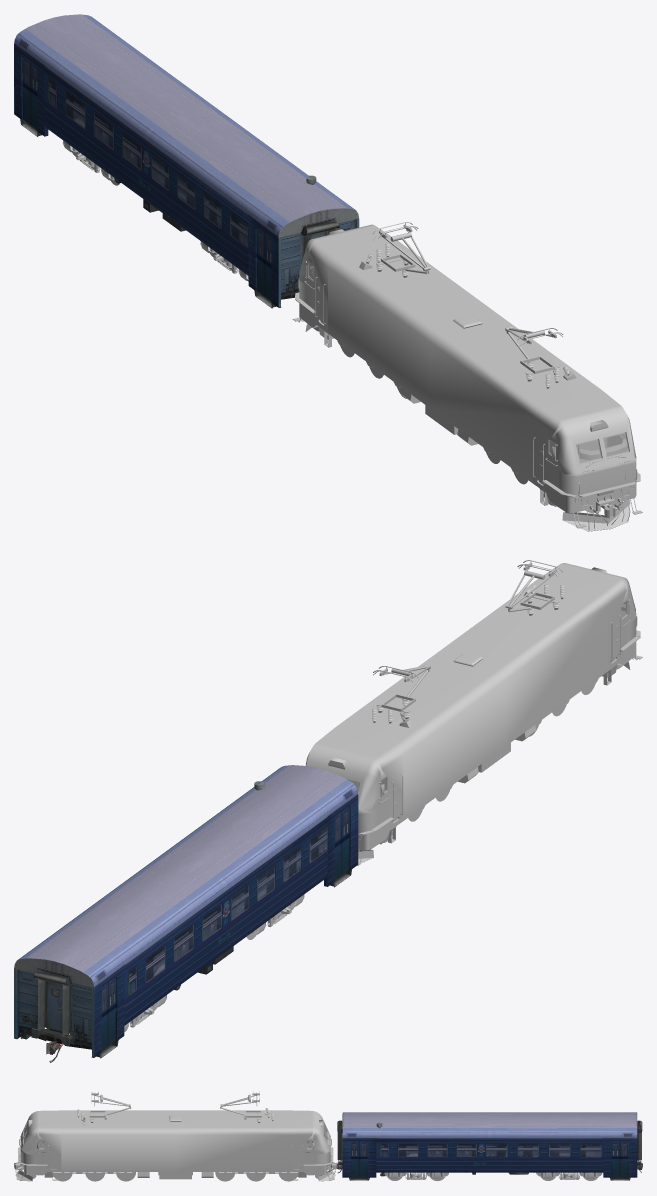
File: HDX3c.fbx
3 renders of one model, top to bottom at view 1: azimuth 30°, elevation 25°; view 2: azimuth 150°, elevation 25°; view 3: azimuth 270°, elevation 25°, orthographic. The views are drawn at different scales.
Parts seen in each view (by area): view 1: HDX3c_cheke, HDX3c_cheshen, HDX3c_dipan1, HDX3c_jiashishi, HDX3c_glass, HDX3c_cheshen2; view 2: HDX3c_cheshen, HDX3c_cheke, HDX3c_dipan1, HDX3c_cheshen2; view 3: HDX3c_cheke, HDX3c_cheshen, HDX3c_dipan1, HDX3c_cheshen2, HDX3c_jiashishi, HDX3c_glass.
Part boxes in pixels (<box>): HDX3c_cheke: <box>299,222,636,513</box>; HDX3c_cheshen: <box>14,14,359,308</box>; HDX3c_dipan1: <box>292,261,642,531</box>; HDX3c_jiashishi: <box>308,262,629,464</box>; HDX3c_glass: <box>309,263,629,463</box>; HDX3c_cheshen2: <box>62,140,248,281</box>; HDX3c_cheshen: <box>14,765,358,1062</box>; HDX3c_cheke: <box>305,560,636,850</box>; HDX3c_dipan1: <box>357,599,642,865</box>; HDX3c_cheshen2: <box>124,894,304,1031</box>; HDX3c_cheke: <box>20,1091,330,1175</box>; HDX3c_cheshen: <box>336,1112,642,1180</box>; HDX3c_dipan1: <box>14,1134,337,1181</box>; HDX3c_cheshen2: <box>384,1172,602,1180</box>; HDX3c_jiashishi: <box>23,1122,328,1149</box>; HDX3c_glass: <box>23,1124,327,1148</box>.
Size of the model in its own units: 299 by 509 by 3583.
